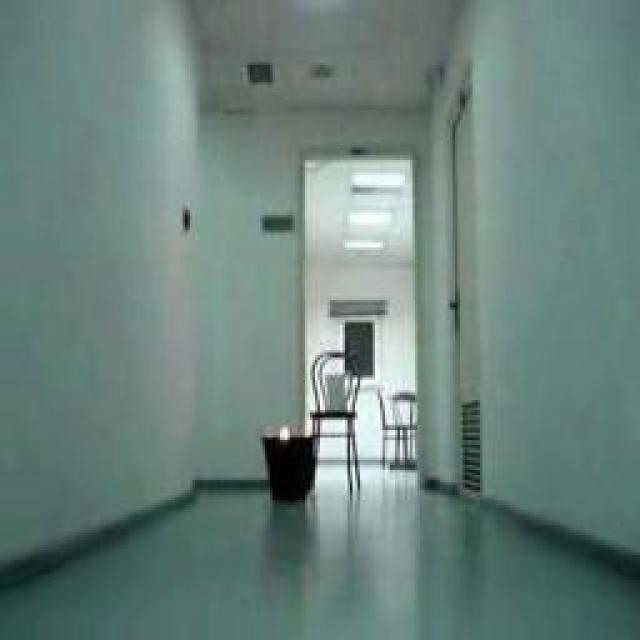Fire: (272, 425, 290, 439)
